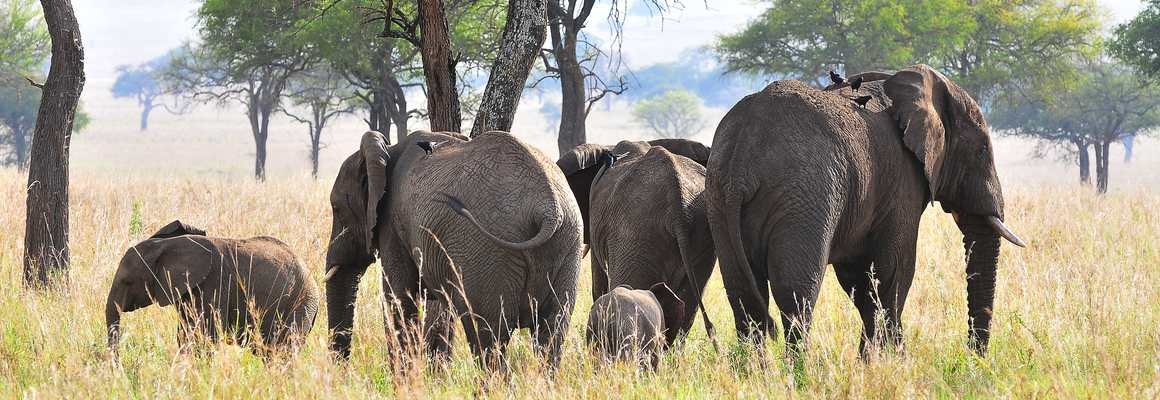bird: (412, 137, 455, 160), (820, 64, 849, 87), (844, 92, 876, 109), (845, 74, 869, 93)
elephant: (698, 56, 1036, 395), (317, 127, 582, 399), (556, 131, 727, 376), (97, 215, 320, 377), (583, 277, 688, 388)
